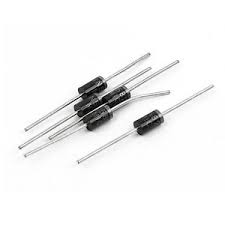diode: (125, 104, 183, 157)
